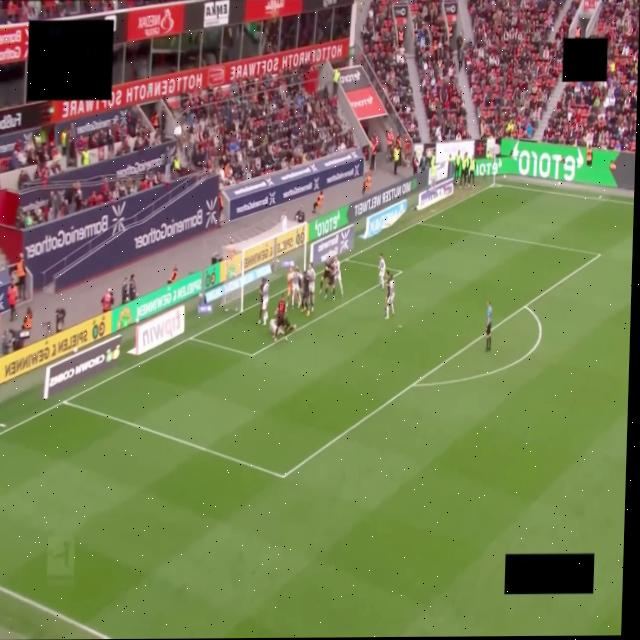player: (273, 294, 295, 340), (319, 259, 334, 298), (258, 278, 268, 325), (306, 263, 315, 312), (385, 271, 394, 319), (291, 268, 301, 308), (332, 256, 342, 295), (301, 271, 309, 317), (268, 318, 283, 339), (378, 253, 385, 289), (287, 268, 293, 307)
referee: (485, 301, 491, 351)
